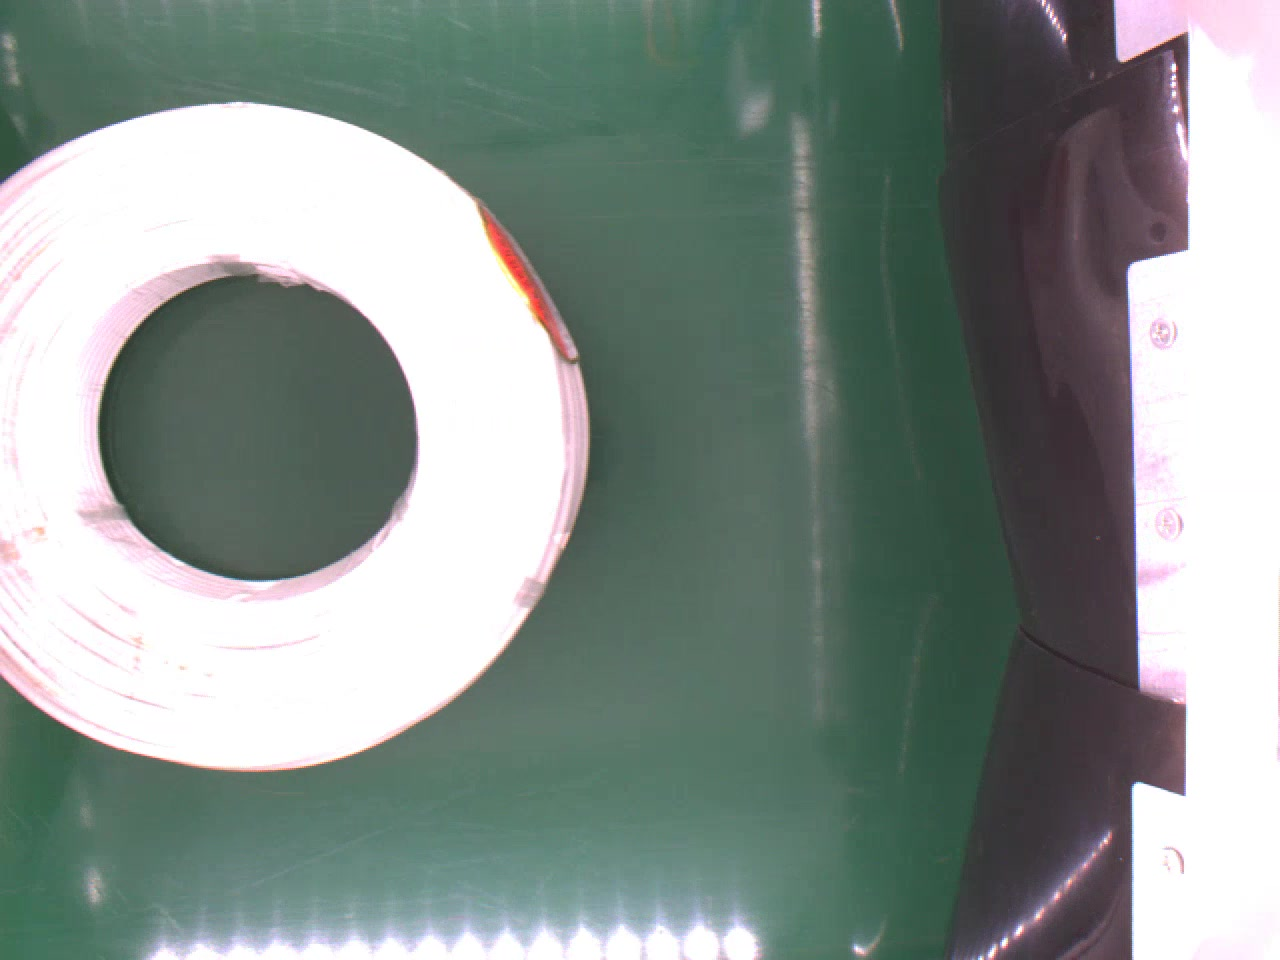white: (3, 84, 596, 785)
